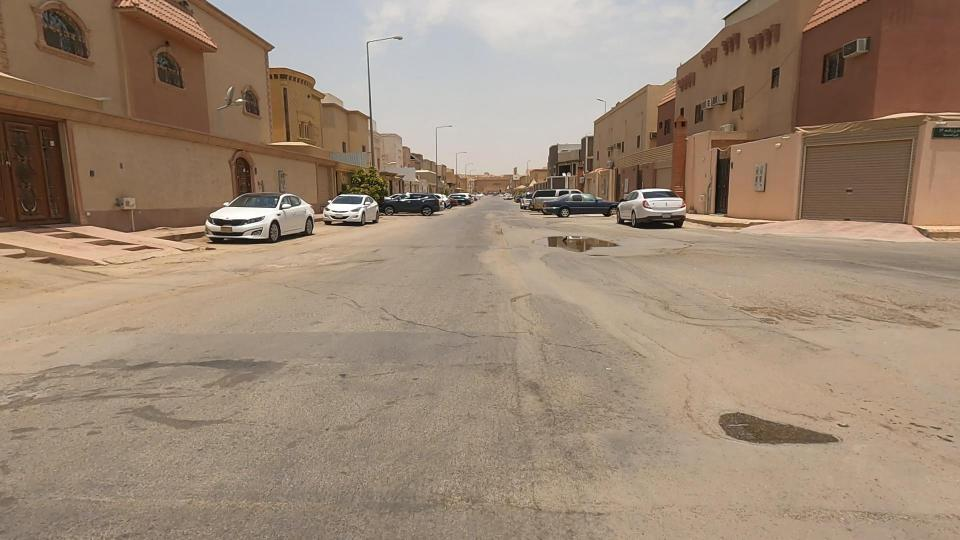POTHOLES: (631, 355, 855, 495), (91, 324, 334, 429), (514, 215, 614, 275)
